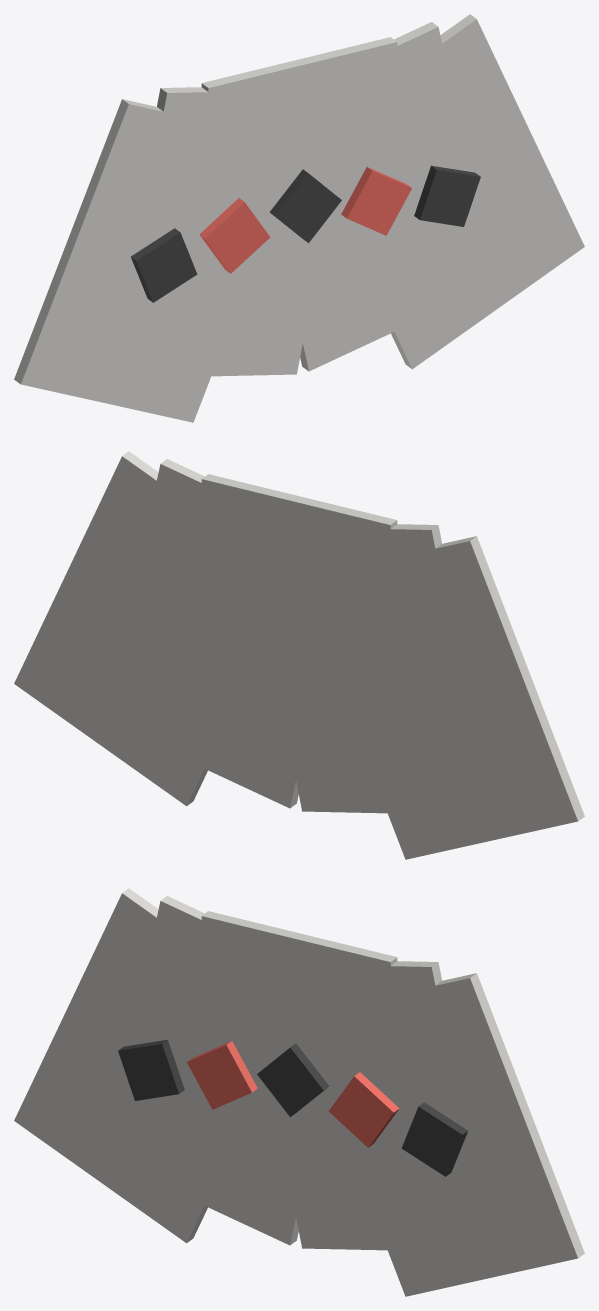
File: PokerHand.fbx
3 views of the same model, one above another, from view 1: azimuth 30°, elevation 25°; view 2: azimuth 150°, elevation 25°; view 3: azimuth 330°, elevation 25° (orthographic).
Parts seen in each view (by area): view 1: Body; view 2: Body; view 3: Body.
Boxes of the visible parts, bbox=[...] form: Body: bbox=[14, 14, 584, 422]; Body: bbox=[14, 451, 584, 859]; Body: bbox=[14, 888, 584, 1296].
Size of the model in its own units: 0.9554 by 0.544 by 0.037.
